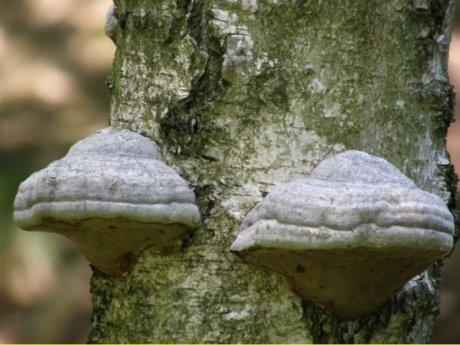Plum tinder fungus: (248, 132, 460, 320), (21, 128, 203, 277)
